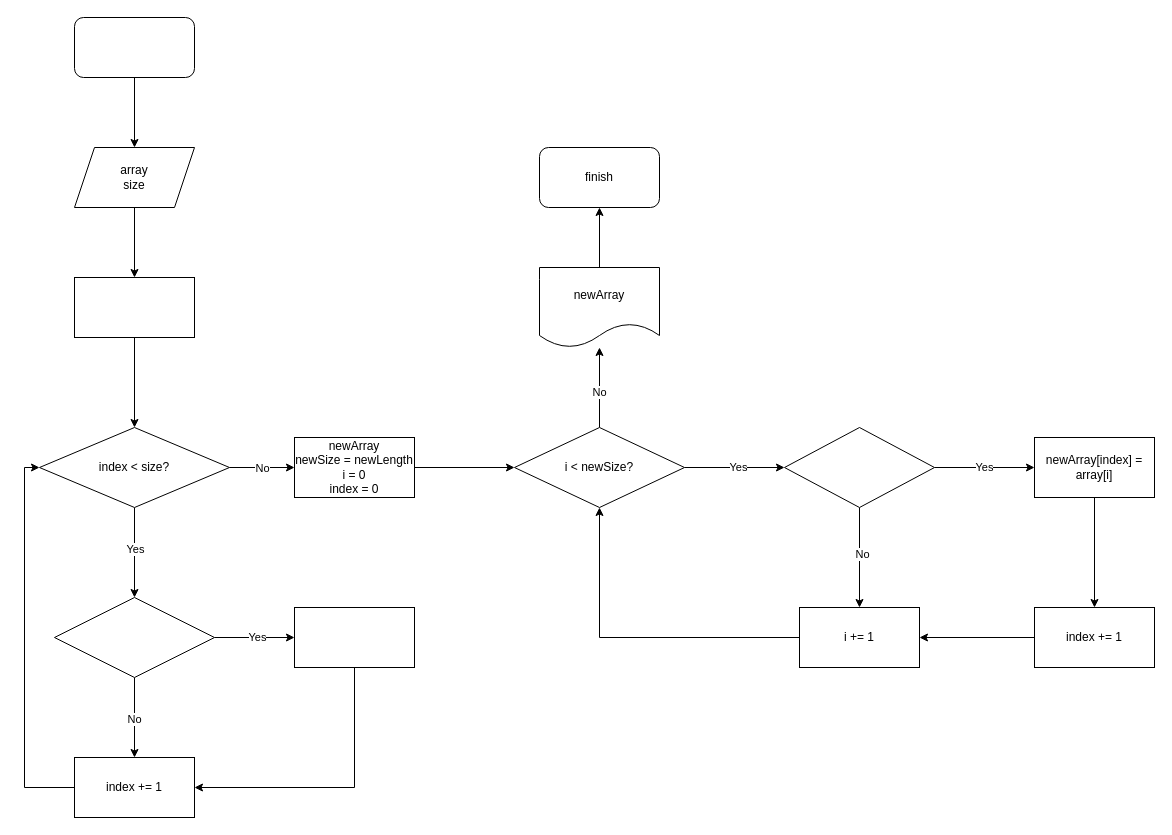
Some shapes in this 1172 by 835 pixel diagram are drawn without their labels. The centre of each missing label's shape, as x and y in pixels:
array[i].Length <= 3?: point (859, 467)
array[index] <= 3?: point (134, 637)
index = 0 newLength = 0: point (134, 307)
newLength += 1: point (354, 637)
start: point (134, 47)
